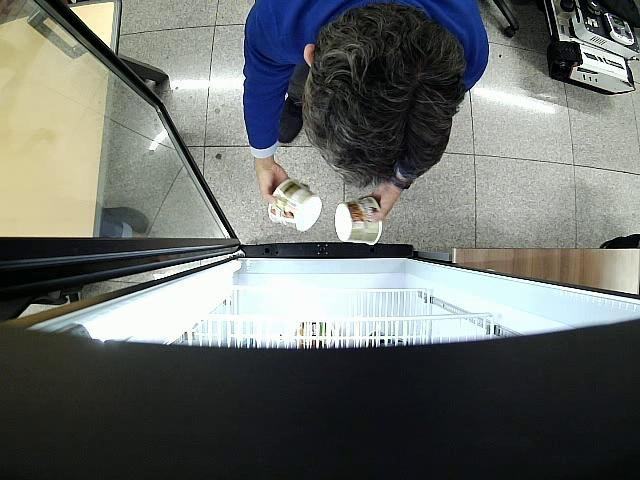03_chapagetti_L: (268, 179, 322, 232), (333, 195, 382, 245)
